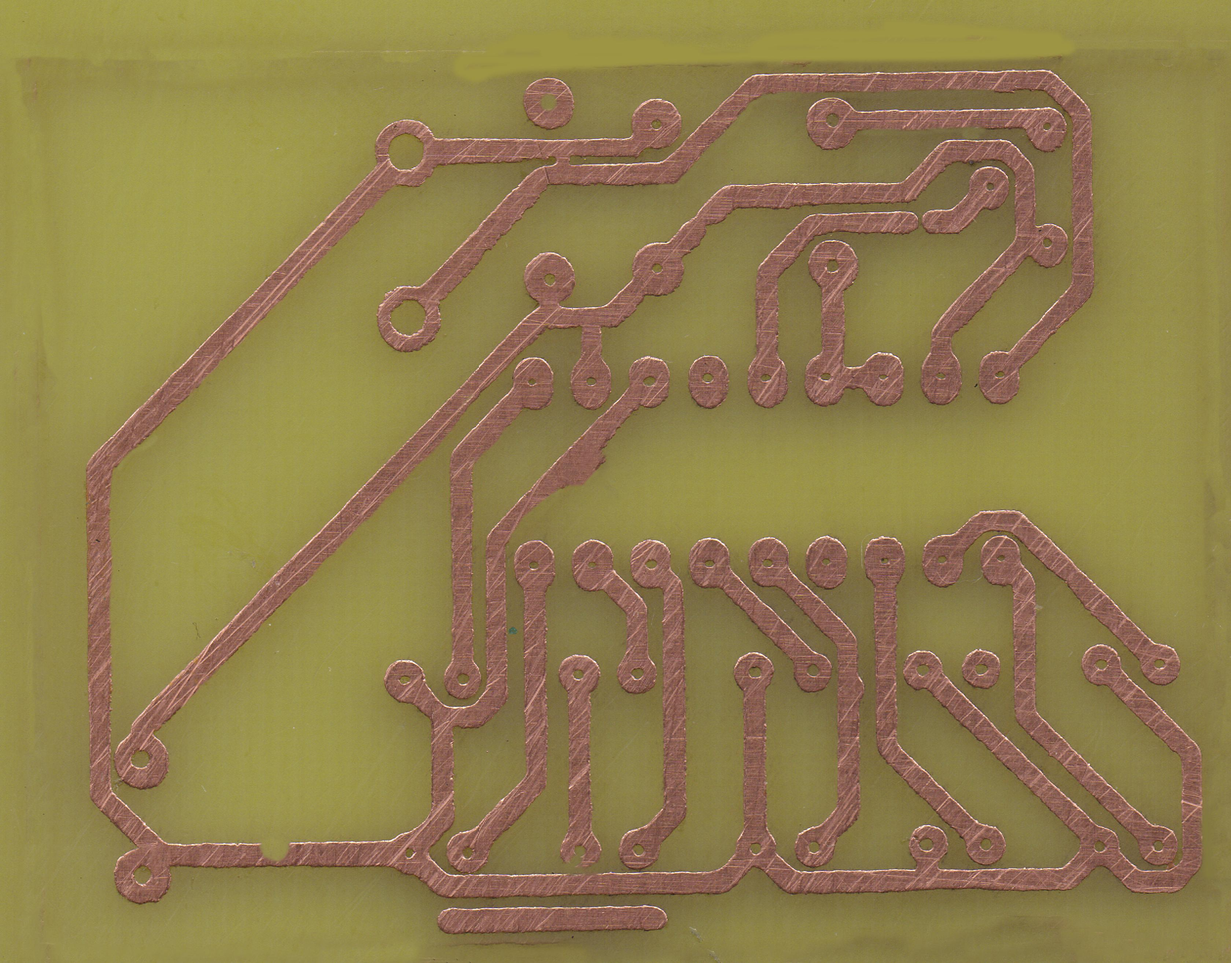missing_hole: (560, 827, 602, 867)
mouse_bite: (250, 838, 293, 870)
open_circuit: (911, 208, 930, 236)
short: (546, 138, 575, 186), (910, 851, 942, 888), (622, 860, 650, 878)
spur: (543, 428, 609, 494), (834, 668, 865, 706)
spurious_copper: (439, 905, 667, 936)
